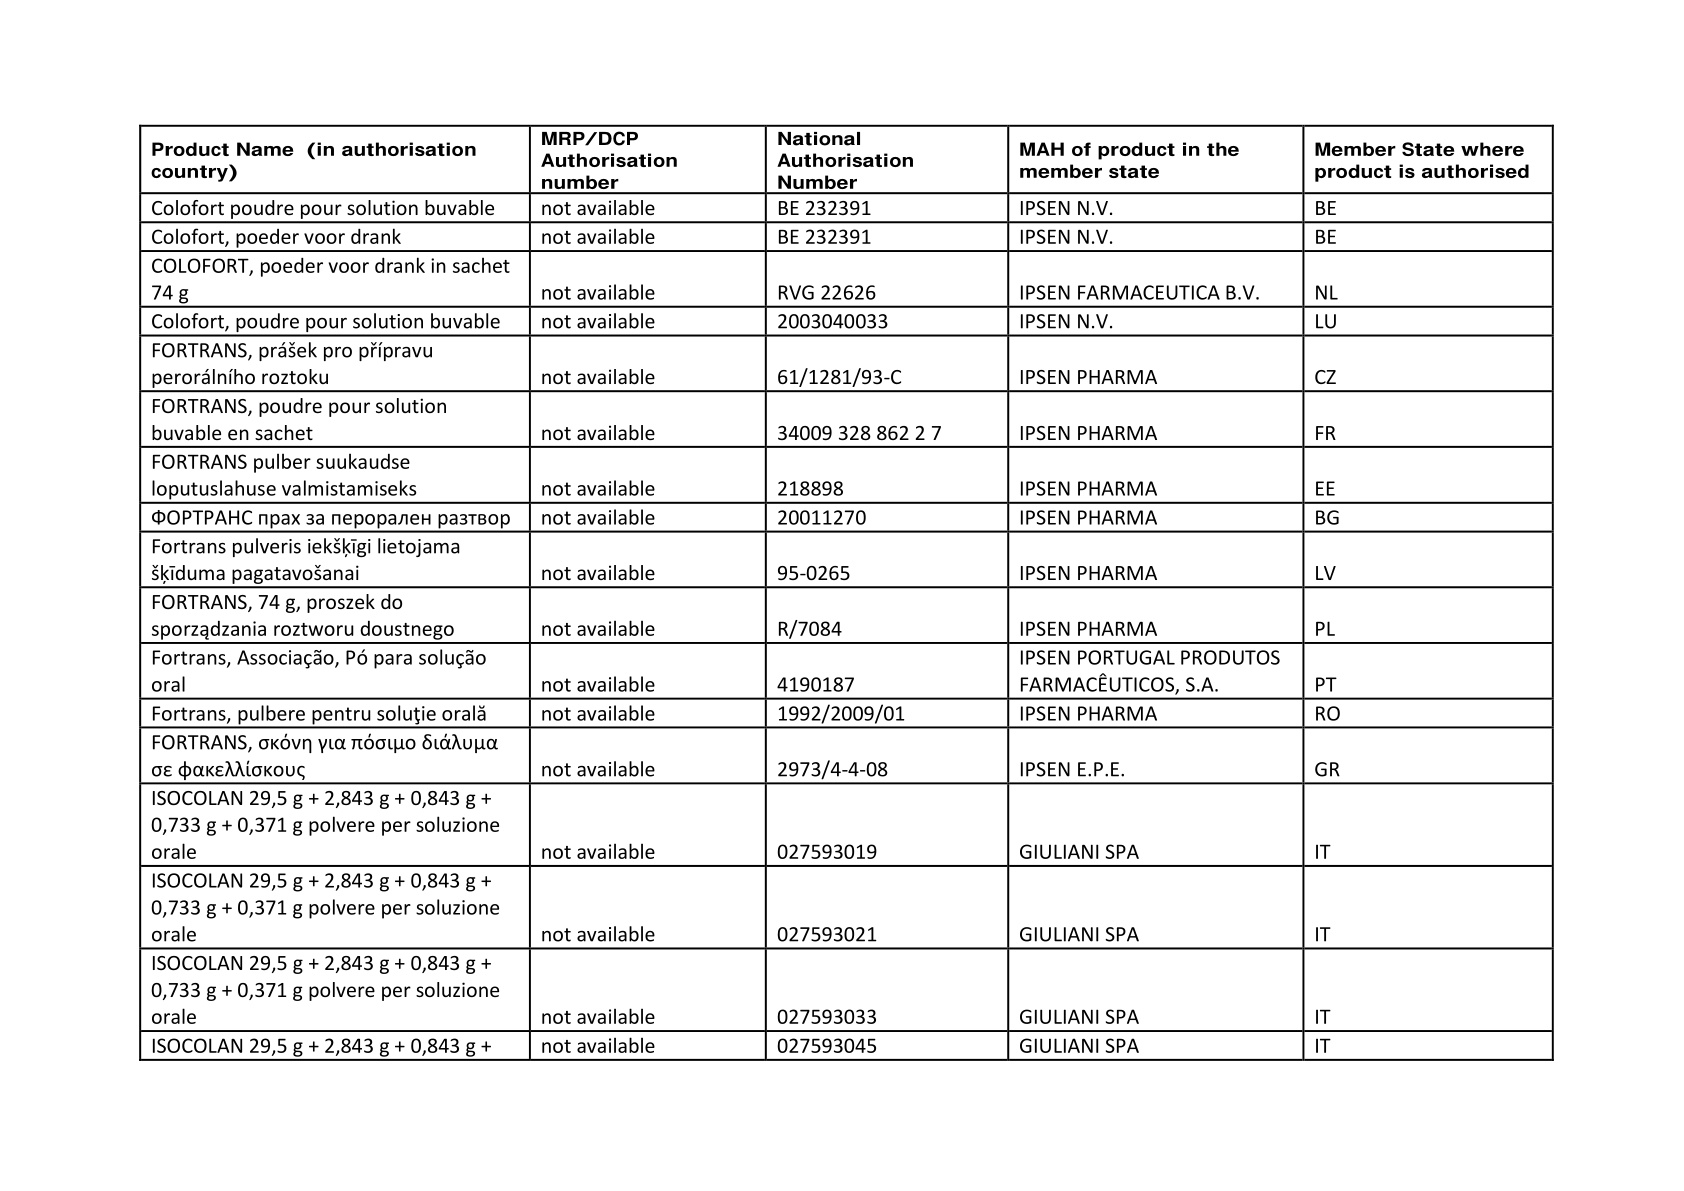full_lined: (138, 122, 1554, 1061)
